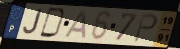6: (89, 9, 113, 42)
7: (115, 11, 139, 43)
A: (63, 10, 87, 40)
D: (38, 6, 67, 39)
J: (22, 8, 44, 35)
P: (132, 12, 159, 44)
